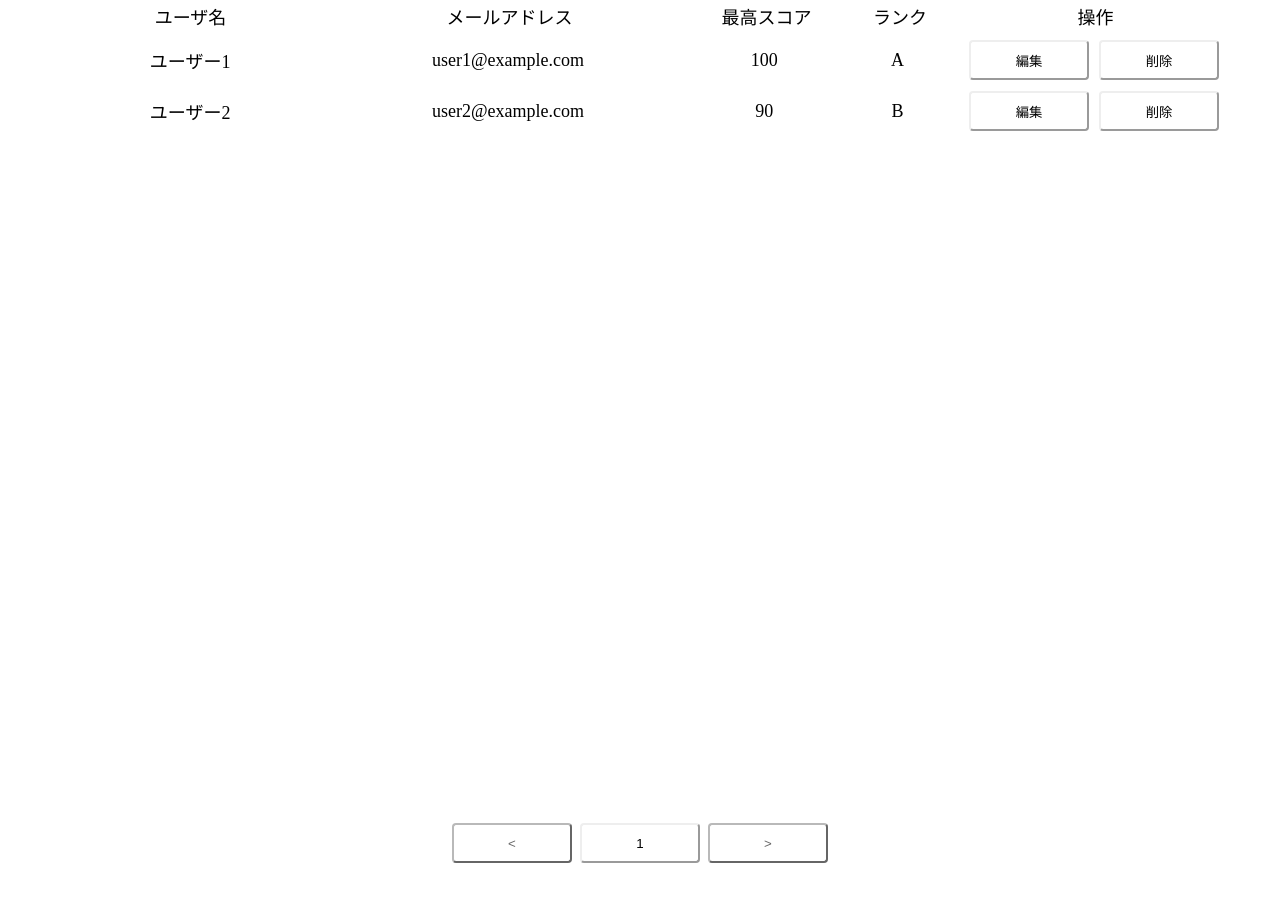
PaginatedUserList › Edit Functionality › 編集をキャンセルできる
The image size is (1280, 900).
Click the button "編集" in the row of "ユーザー1".
click(1029, 60)  # box 969,40 -> 1089,80
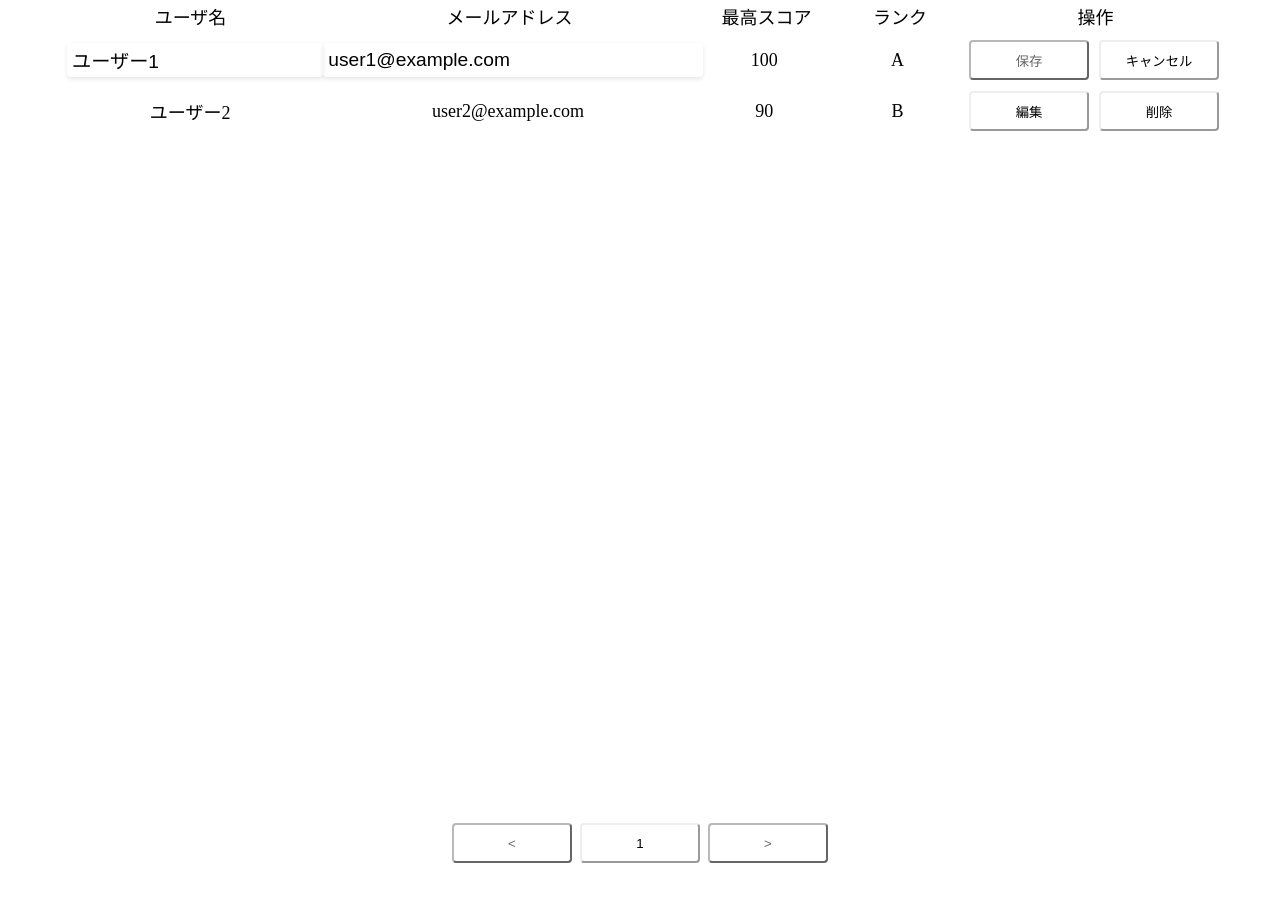
Click the button "キャンセル".
click(1159, 60)  # box 1099,40 -> 1219,80
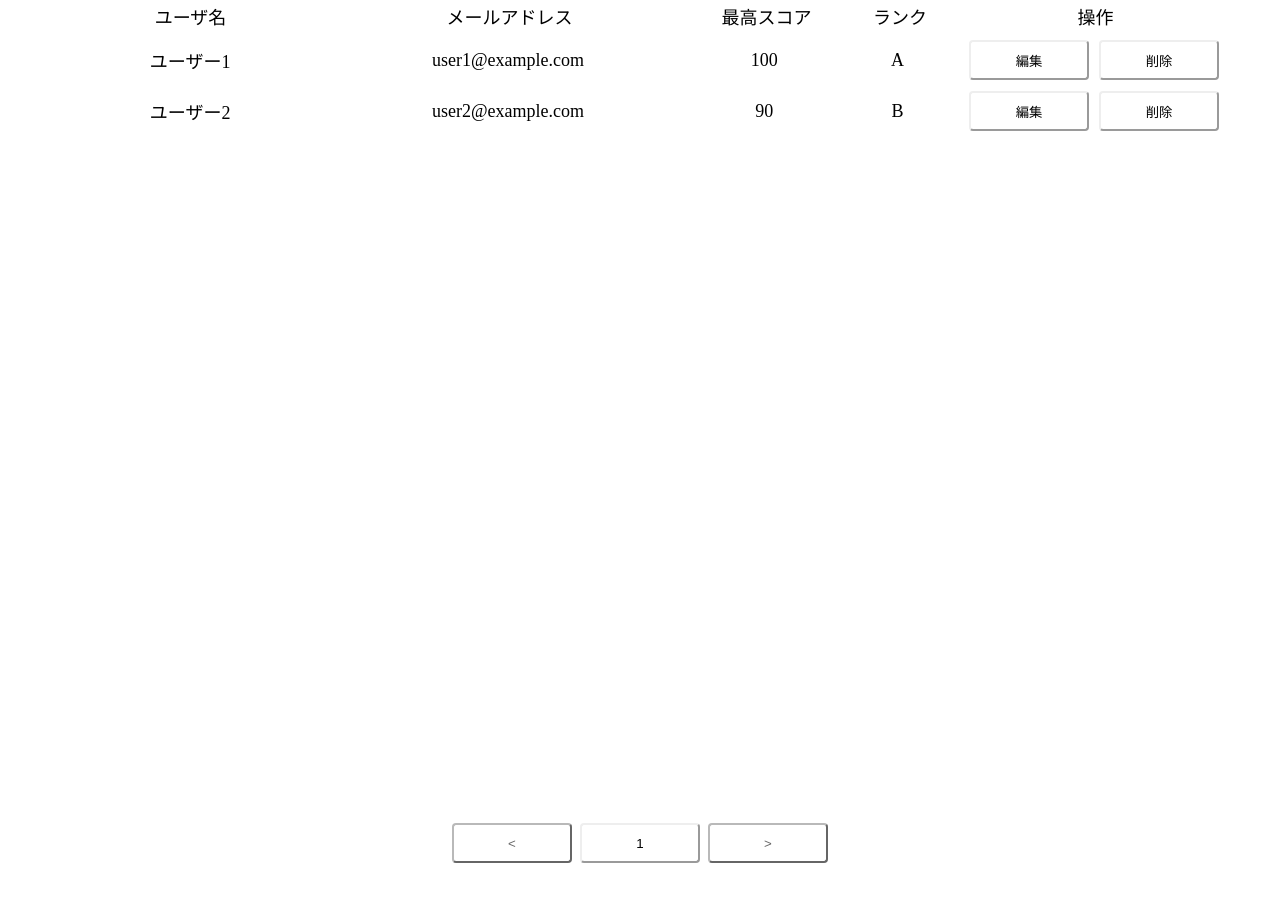
Result: no fields are shown
